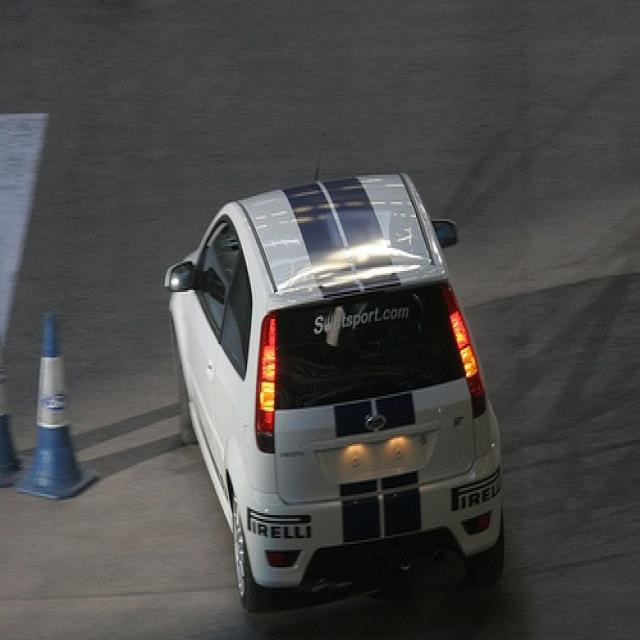car: (169, 169, 503, 615)
